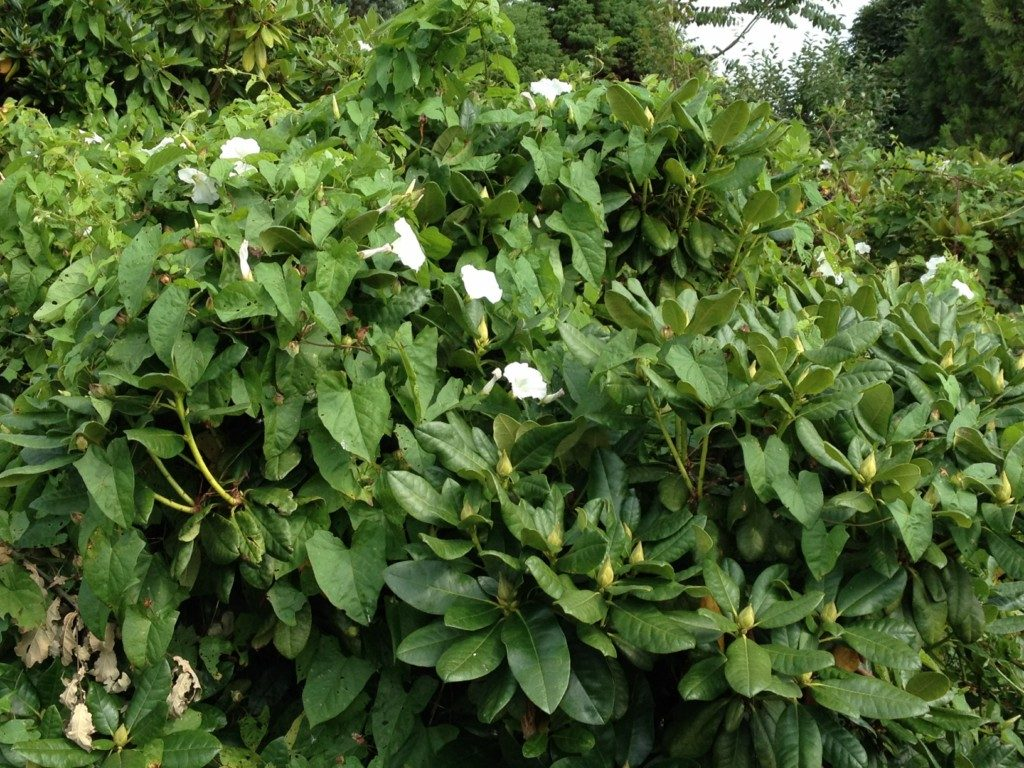haagwinde: (128, 102, 734, 512)
